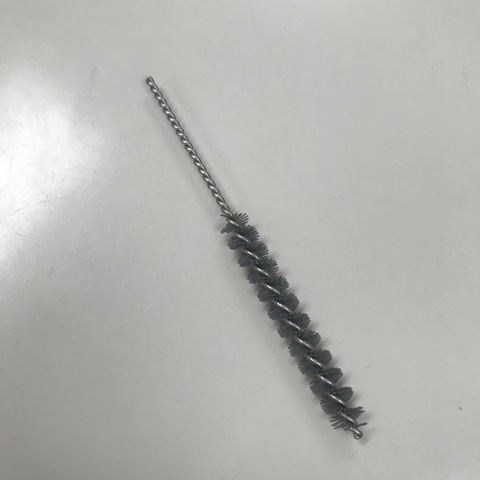Twist Brush-A: (141, 73, 373, 443)
